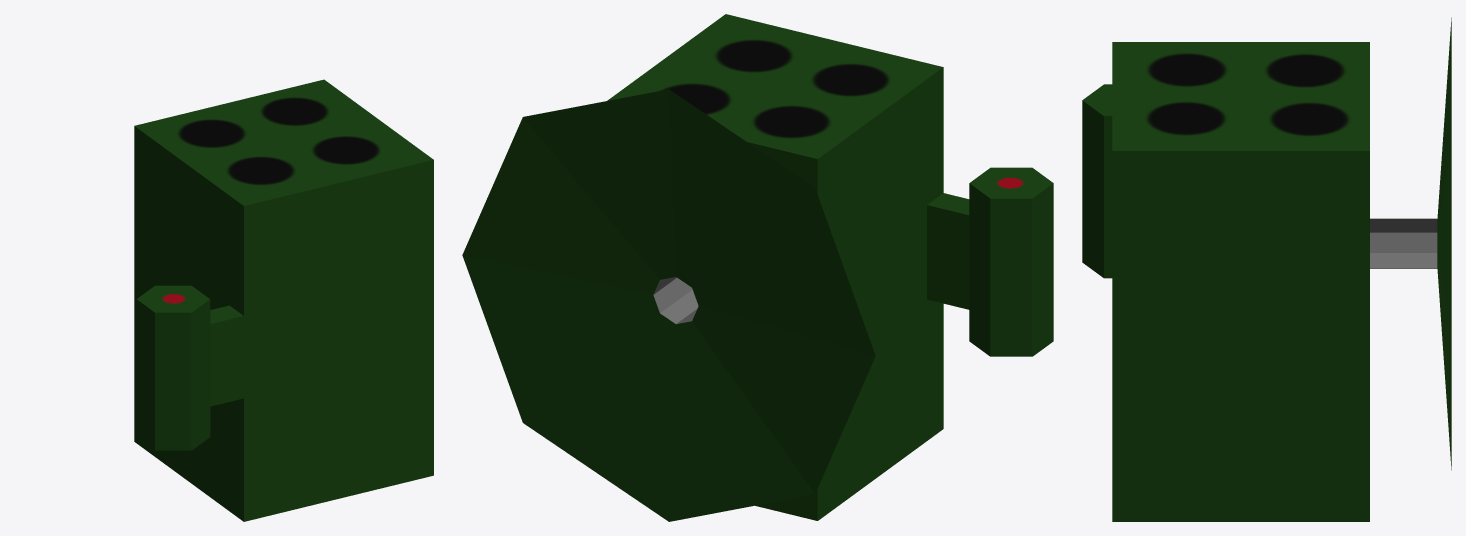
File: enemy5.obj
3 renders of one model, left to right at view 1: azimuth 30°, elevation 25°; view 2: azimuth 150°, elevation 25°; view 3: azimuth 270°, elevation 25°, orthographic. The views are drawn at different scales.
Visible parts, largest first — view 1: Circle; view 2: Circle; view 3: Circle.
Boxes of the visible parts, <box> form: Circle: <box>134,79,433,521</box>; Circle: <box>462,14,1053,521</box>; Circle: <box>1082,17,1451,521</box>.
Size of the model in its own units: 2.04 by 2.01 by 1.51.
1 material, 1 textured.
